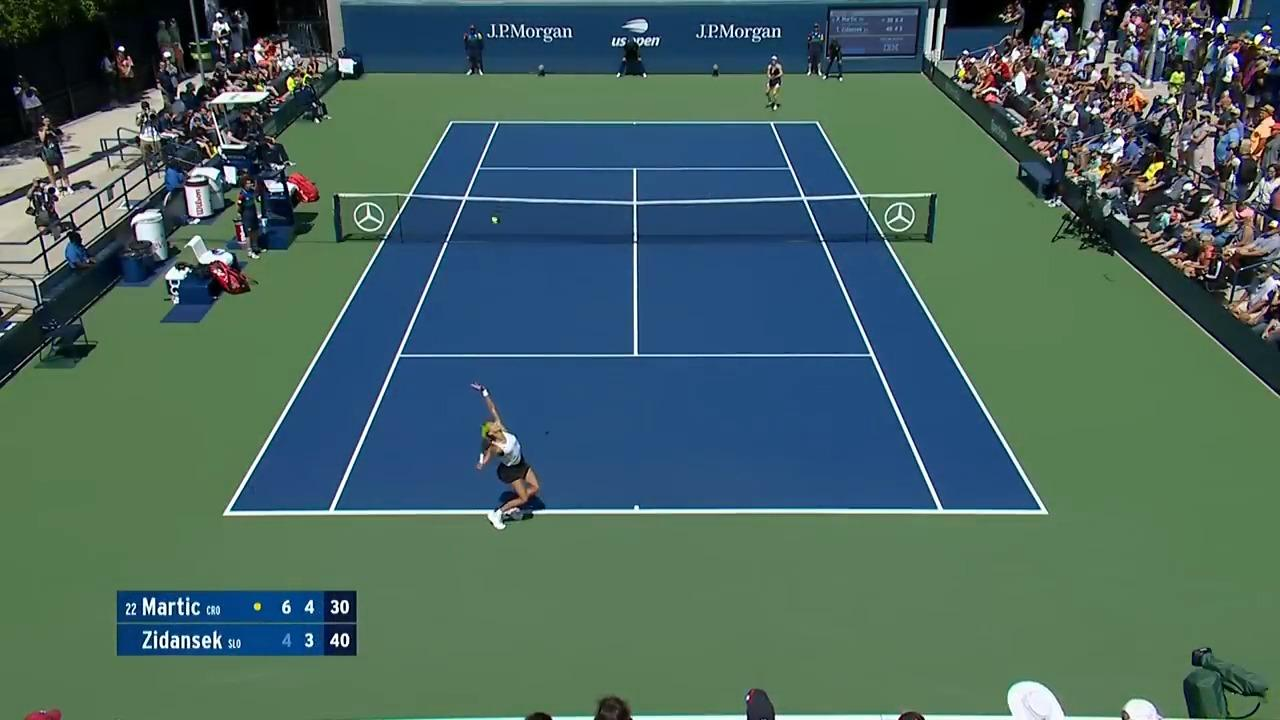tennis ball: (493, 218, 499, 222)
